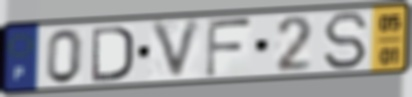0: (44, 26, 86, 86)
2: (273, 14, 314, 74)
D: (90, 24, 136, 85)
F: (203, 16, 255, 80)
S: (322, 10, 371, 72)
V: (148, 16, 206, 83)
